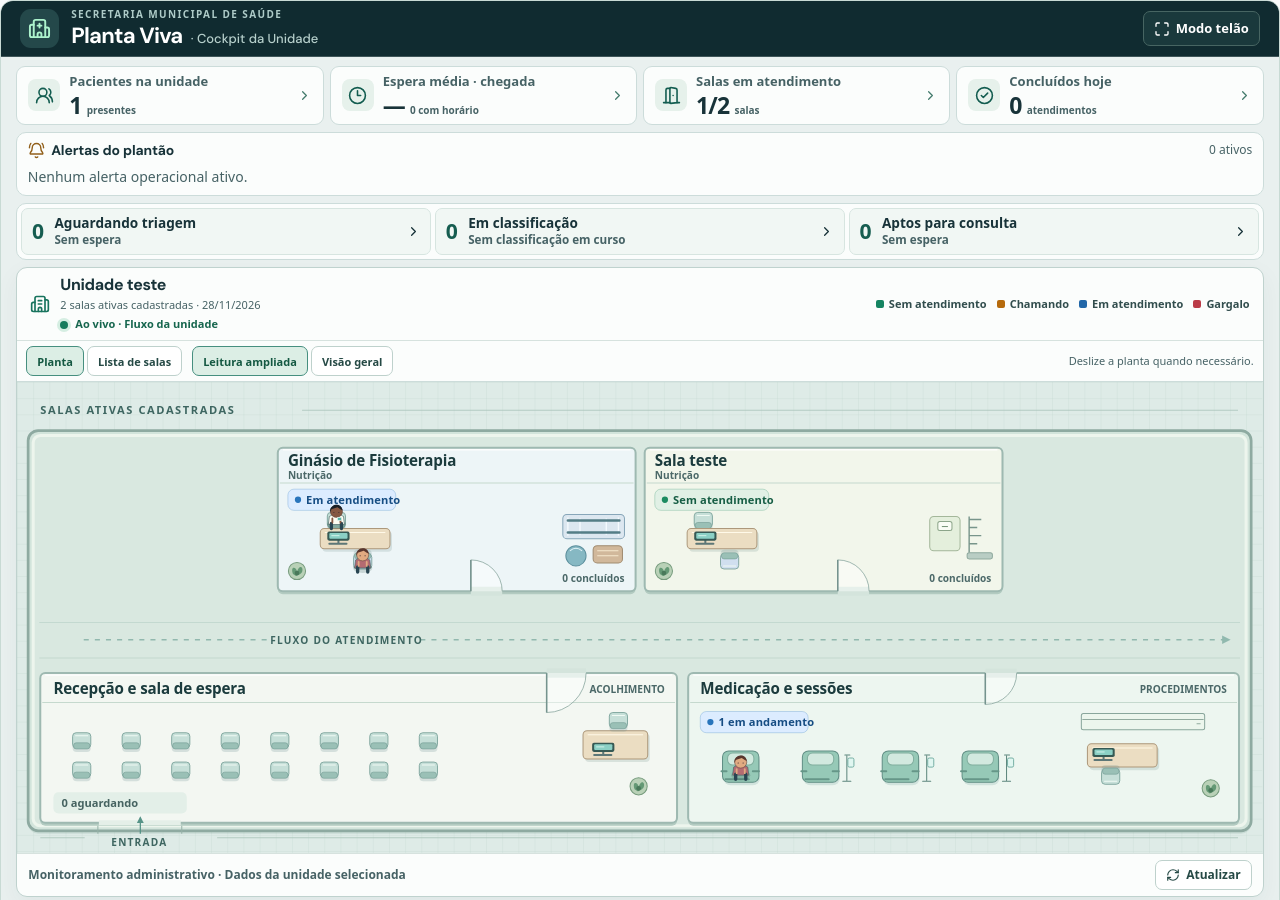
Scenario: alterna entre planta e lista sem duplicar os ambientes nem expor dados no telão
The image size is (1280, 900).
Check: the icon named "Planta da unidade" is shown, box x1=17 y1=382 x2=1263 y2=853
Click the button "Lista de salas". click: (134, 361)
box: x1=87 y1=346 x2=182 y2=376
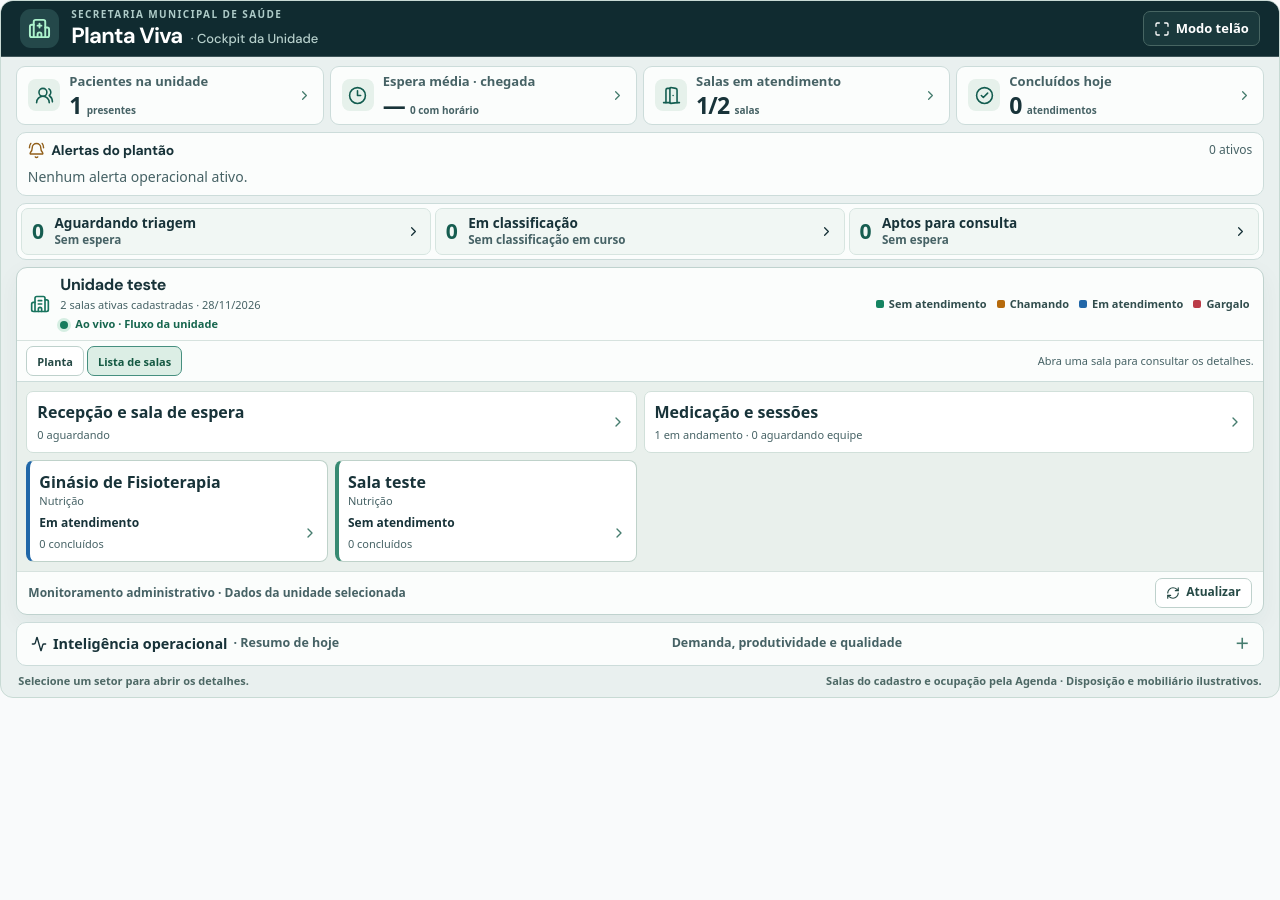
Check: the button "Lista de salas" is pressed, box x1=87 y1=346 x2=182 y2=376
Click the button "Ginásio de Fisioterapia Nutrição Em atendimento 0 concluídos". click: (130, 482)
box: x1=26 y1=460 x2=328 y2=562
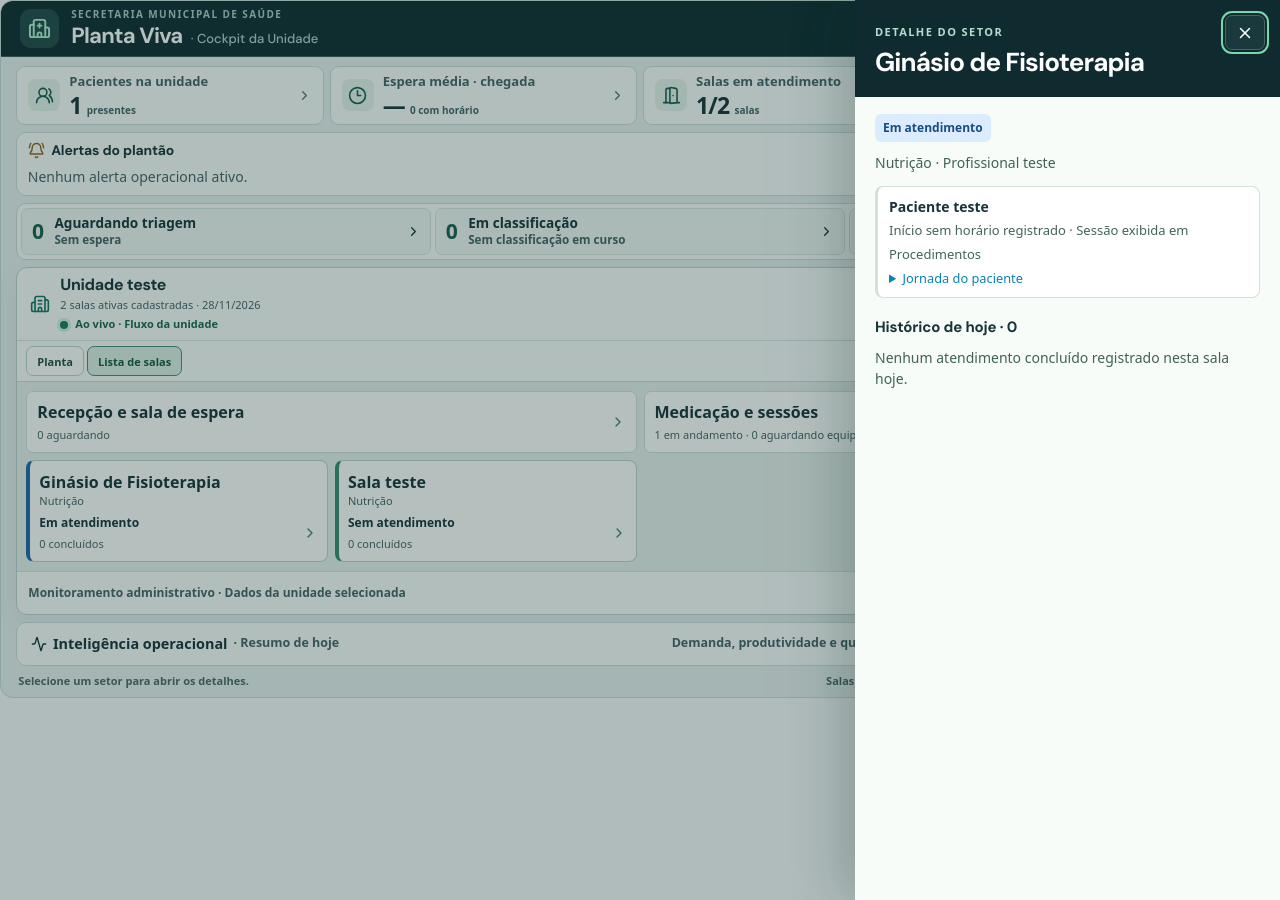
Check: the text "Paciente teste" is shown, box x1=889 y1=197 x2=989 y2=216
Click the button named "Fechar detalhes". click: (1245, 32)
box: x1=1225 y1=15 x2=1265 y2=50
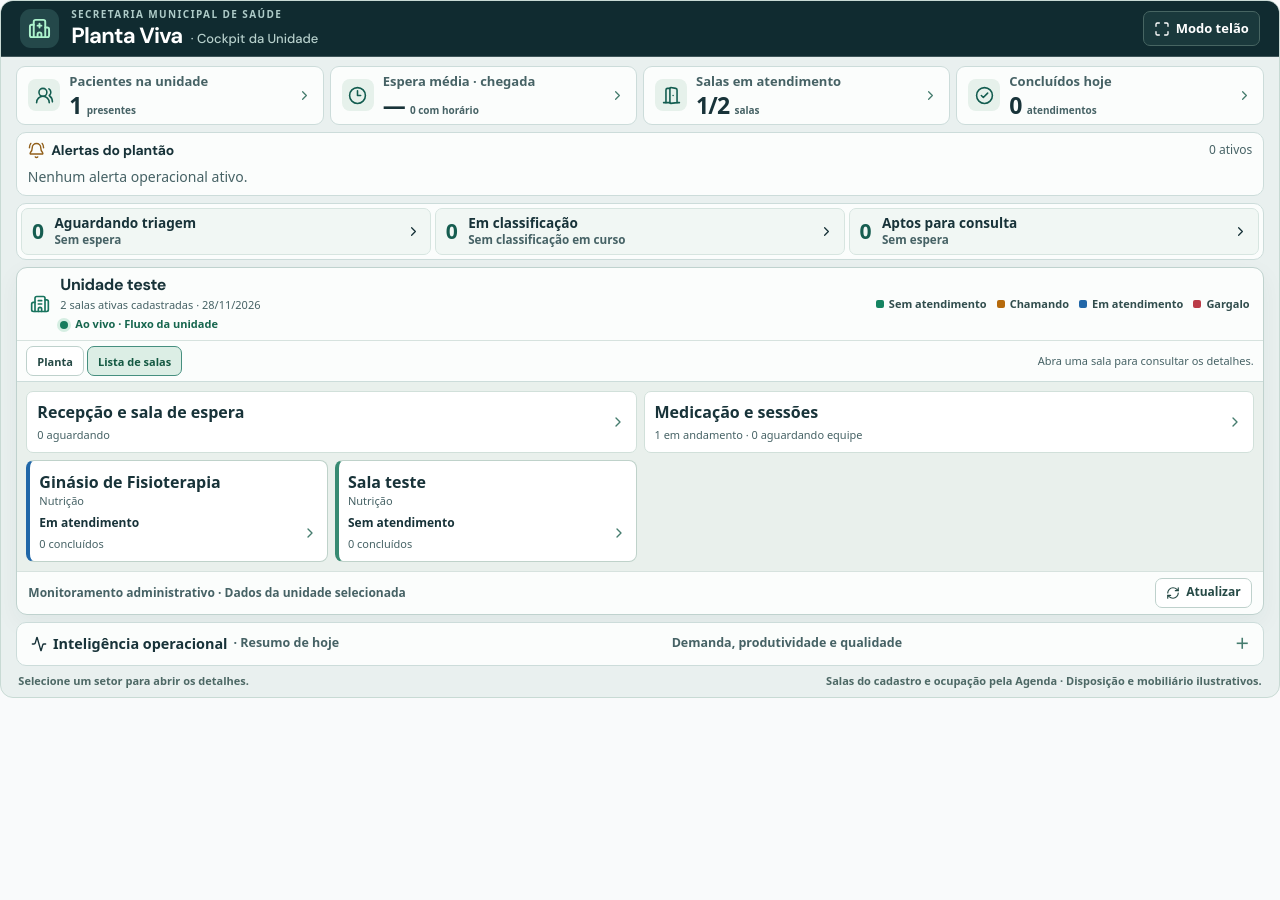
Click the button "Modo telão". click: (1201, 28)
box: x1=1143 y1=11 x2=1260 y2=46
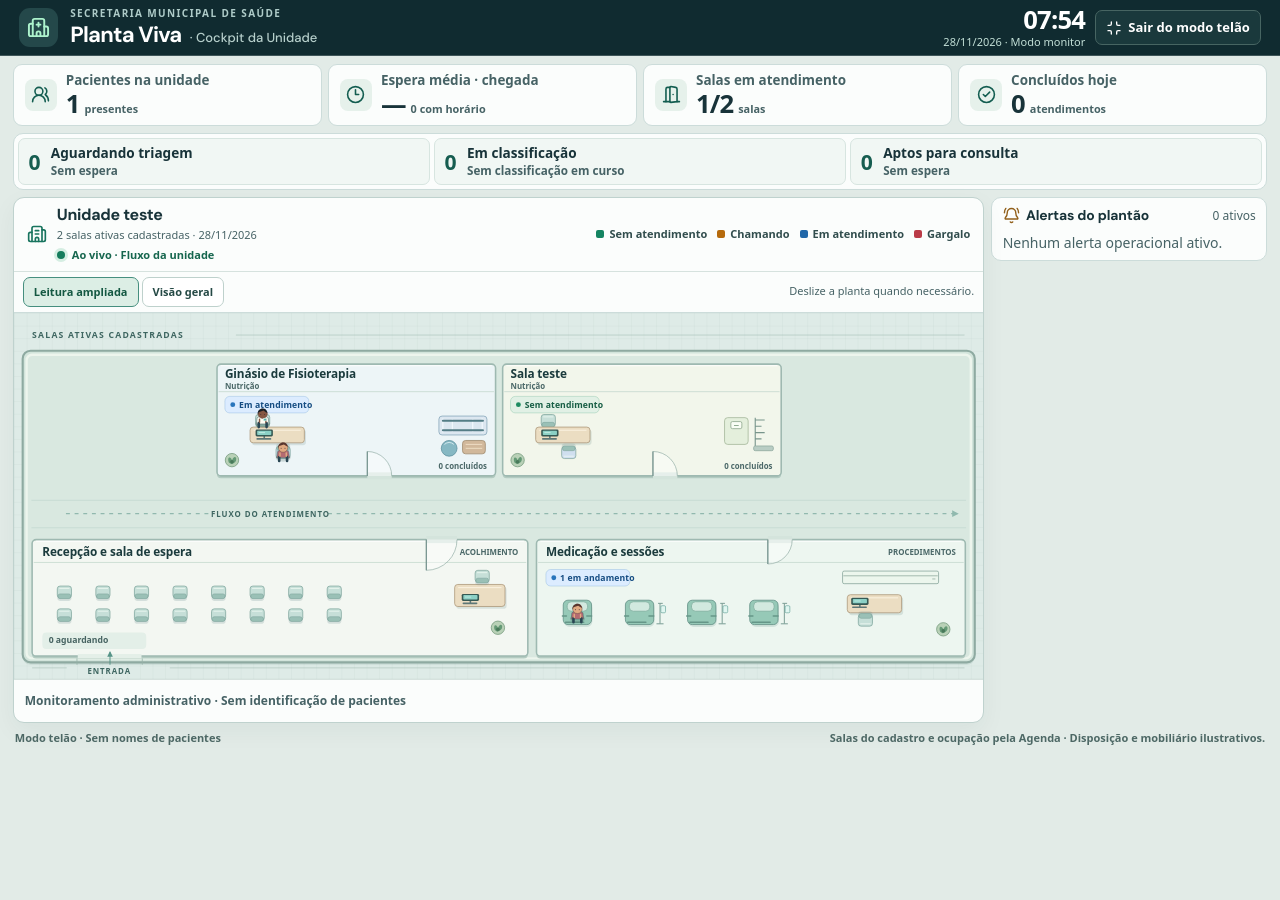
Check: the text "Paciente teste" is not shown
Check: the button "Lista de salas" is gone
Check: the icon named "Planta da unidade" is shown, box x1=14 y1=313 x2=983 y2=679
Click the button "Sair do modo telão". click: (1178, 28)
box: x1=1095 y1=10 x2=1261 y2=45
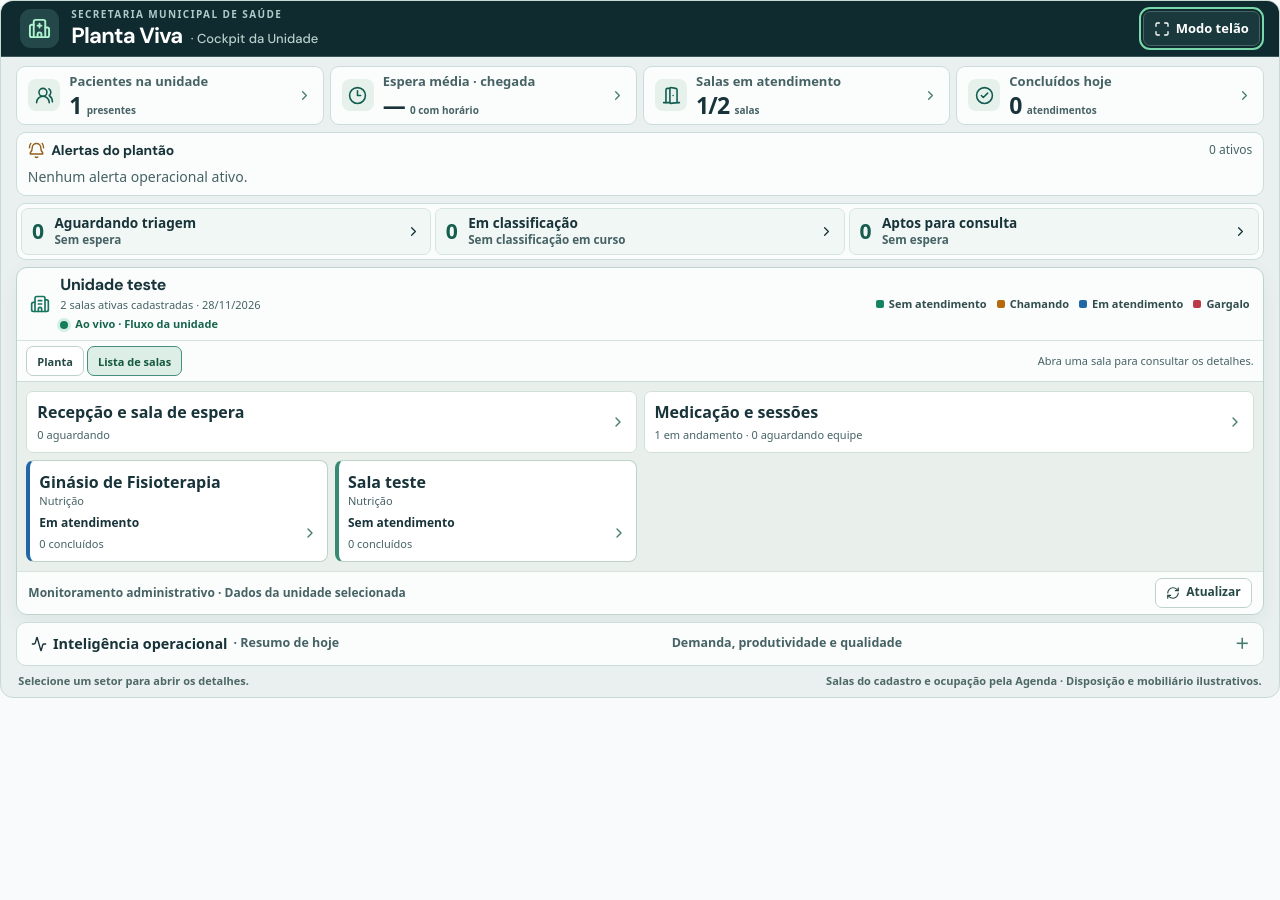
Check: the button "Lista de salas" is pressed, box x1=87 y1=346 x2=182 y2=376
